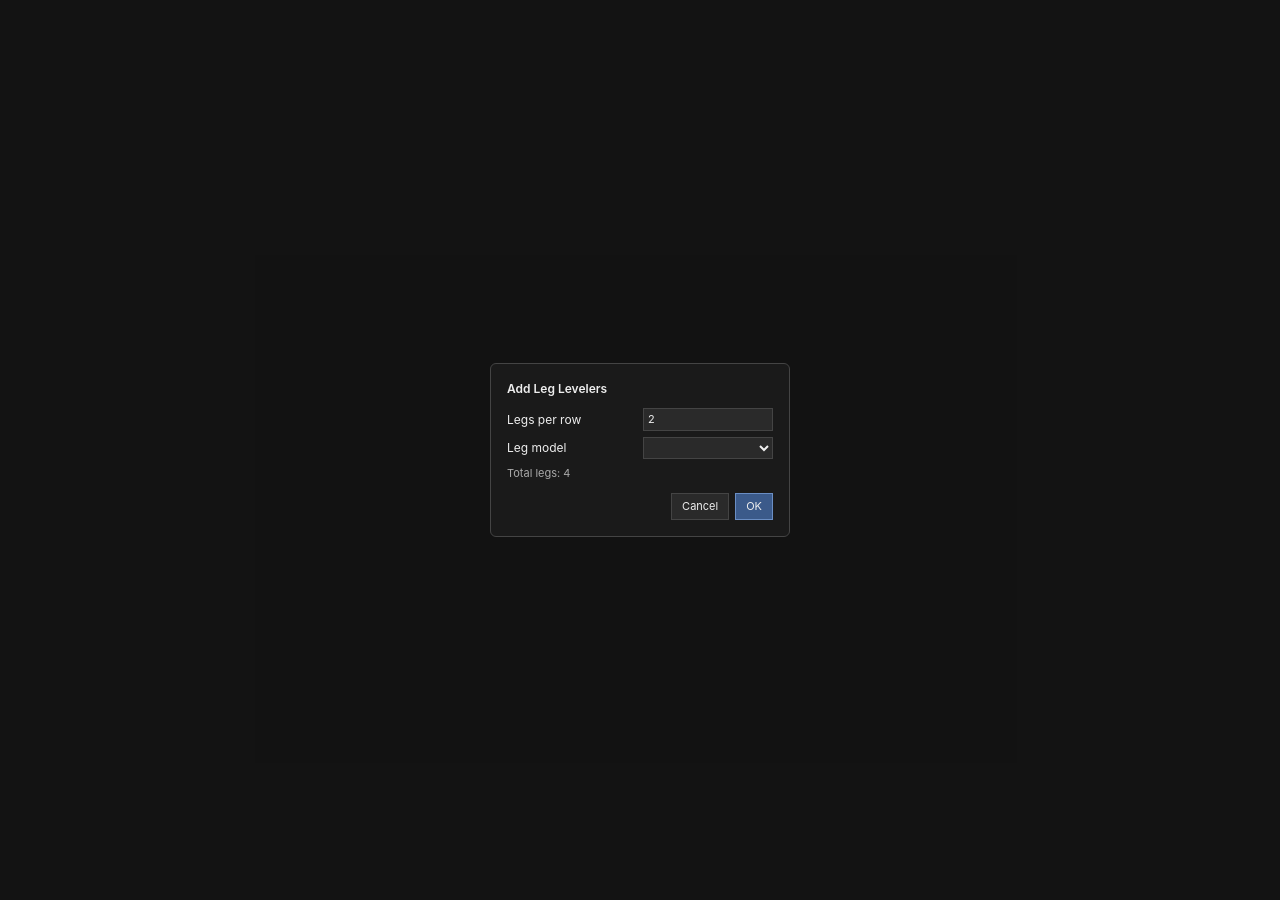
it: LegLevelersDialog — structural › OK disabled when legsPerRow < 2 (set to 1)
Replace the text in the number field labelled "Legs per row" with "1" at (708, 420), box [643,408,773,431]
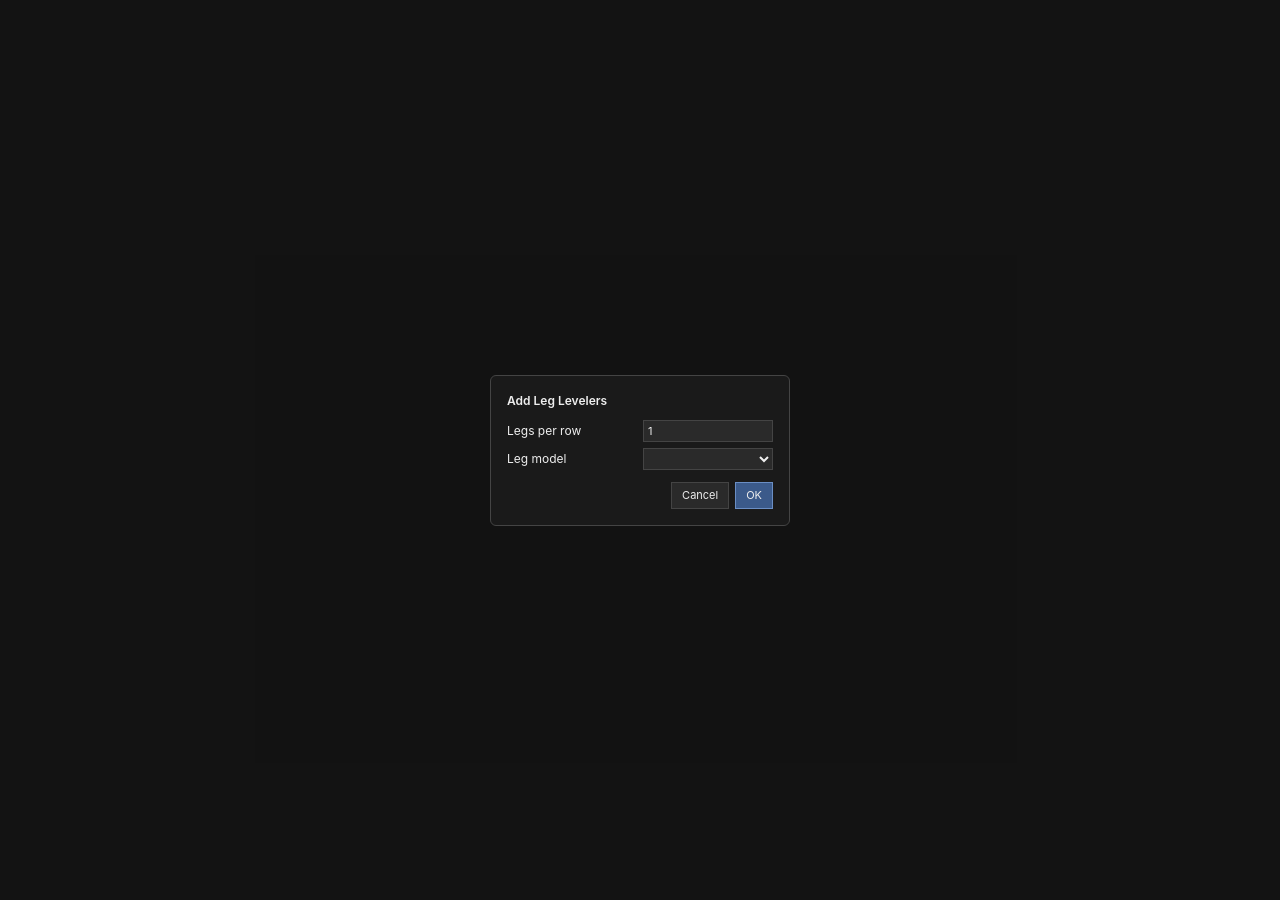
Check: the button "OK" is disabled, box [735,482,773,508]
